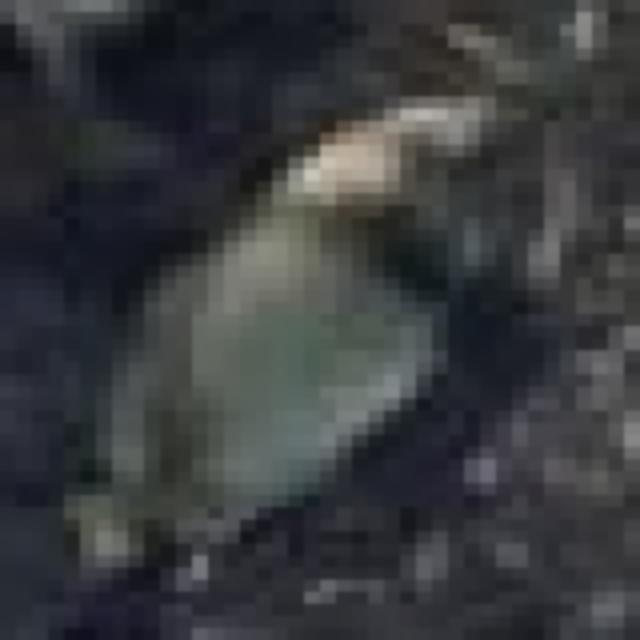fish: (16, 12, 640, 640)
